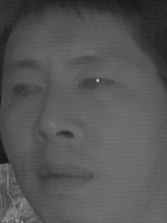eye: (76, 73, 115, 97), (7, 80, 44, 101)
mouth: (27, 160, 96, 199)
